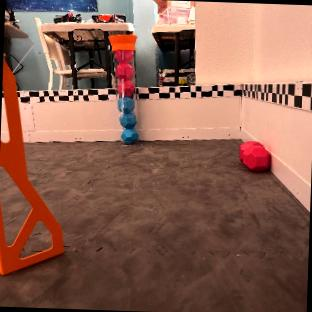V5_BLUE: (117, 98, 137, 143)
V5_RED: (109, 33, 138, 143), (115, 49, 135, 97), (240, 142, 271, 171)
